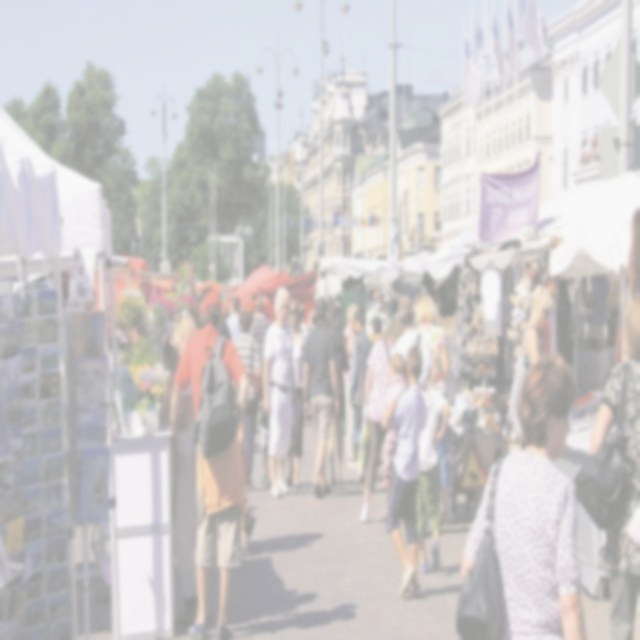pessoa: (454, 348, 590, 640), (166, 287, 250, 639), (572, 289, 640, 639), (163, 312, 210, 628), (197, 287, 250, 557), (386, 345, 428, 599), (356, 314, 405, 524), (412, 290, 450, 522), (262, 284, 300, 501), (301, 294, 341, 500), (416, 347, 450, 576), (216, 327, 250, 551), (232, 308, 264, 492), (230, 600, 362, 636), (286, 297, 309, 490), (394, 294, 438, 387), (348, 306, 374, 462), (326, 313, 349, 487), (380, 352, 408, 490), (517, 281, 555, 369), (342, 301, 360, 471), (157, 338, 180, 431), (250, 294, 272, 372), (257, 400, 273, 490), (362, 288, 388, 342), (240, 290, 272, 324), (226, 295, 242, 342), (298, 302, 312, 342), (303, 310, 317, 348), (369, 314, 384, 346), (296, 310, 304, 335), (220, 304, 230, 322)
